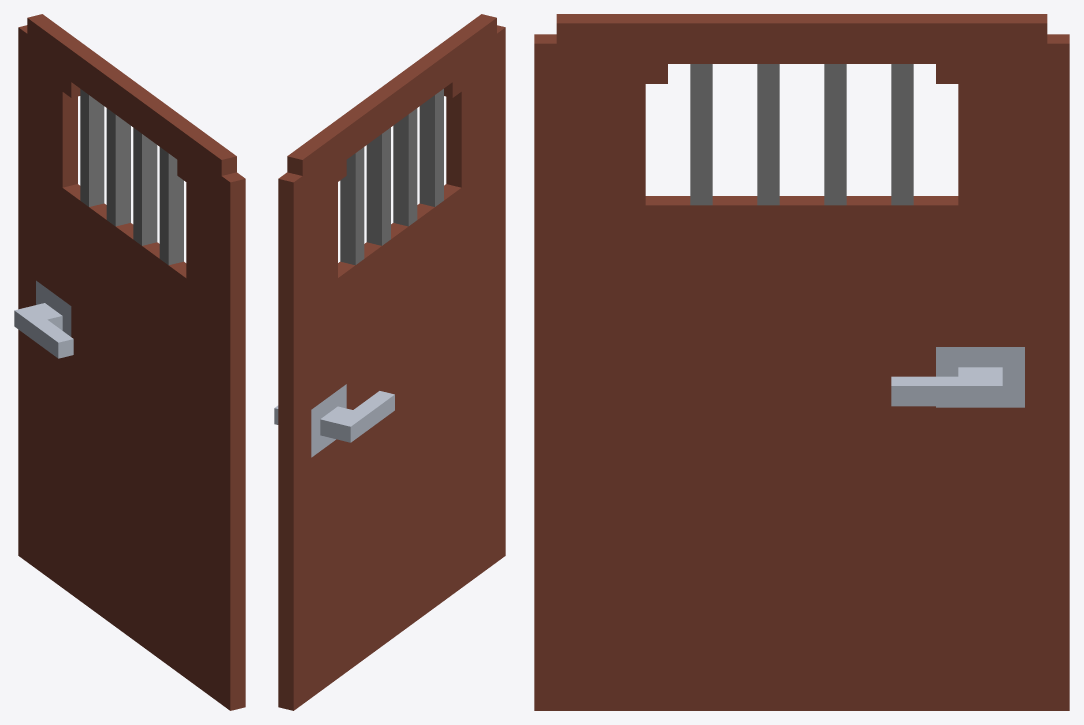
Rendered from door.fbx.
3 views of the same model, side by side, from view 1: azimuth 30°, elevation 25°; view 2: azimuth 150°, elevation 25°; view 3: azimuth 270°, elevation 25° (orthographic). The views are drawn at different scales.
Parts seen in each view (by area): view 1: Untitled; view 2: Untitled; view 3: Untitled.
Boxes of the visible parts, <box> form: Untitled: <box>14,14,245,710</box>; Untitled: <box>274,14,505,710</box>; Untitled: <box>534,14,1069,710</box>.
Size of the model in its own units: 50 by 340 by 240.
